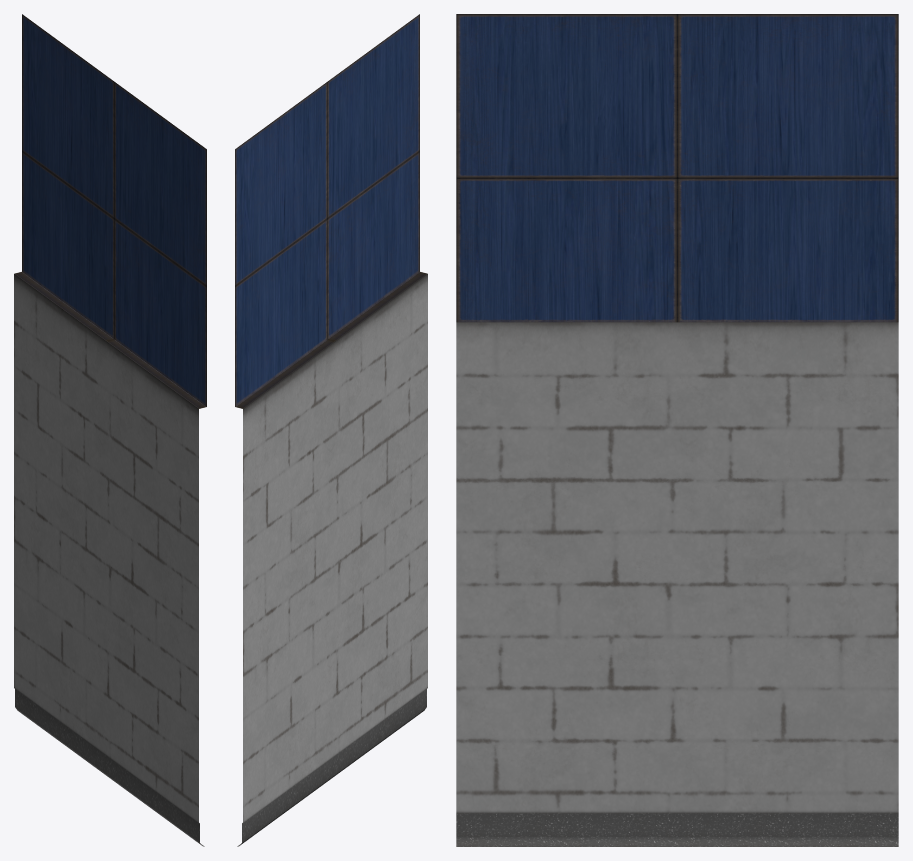
Rendered from Cafateria 2m Wall.fbx.
3 views of the same model, side by side, from view 1: azimuth 30°, elevation 25°; view 2: azimuth 150°, elevation 25°; view 3: azimuth 270°, elevation 25° (orthographic). The views are drawn at different scales.
Visible parts, largest first — view 1: Cafateria_2M_Wall; view 2: Cafateria_2M_Wall; view 3: Cafateria_2M_Wall.
Part boxes in pixels (box(x1,y1,x2,y2)): Cafateria_2M_Wall: box(14, 14, 206, 846); Cafateria_2M_Wall: box(235, 14, 427, 846); Cafateria_2M_Wall: box(456, 14, 898, 846).
Bounding box in the file's own units: 5 × 416 × 200.
